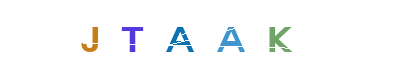A: (157, 0, 237, 80), (166, 0, 246, 80)
J: (52, 0, 132, 80)
K: (235, 0, 315, 80)
T: (92, 0, 172, 80)
